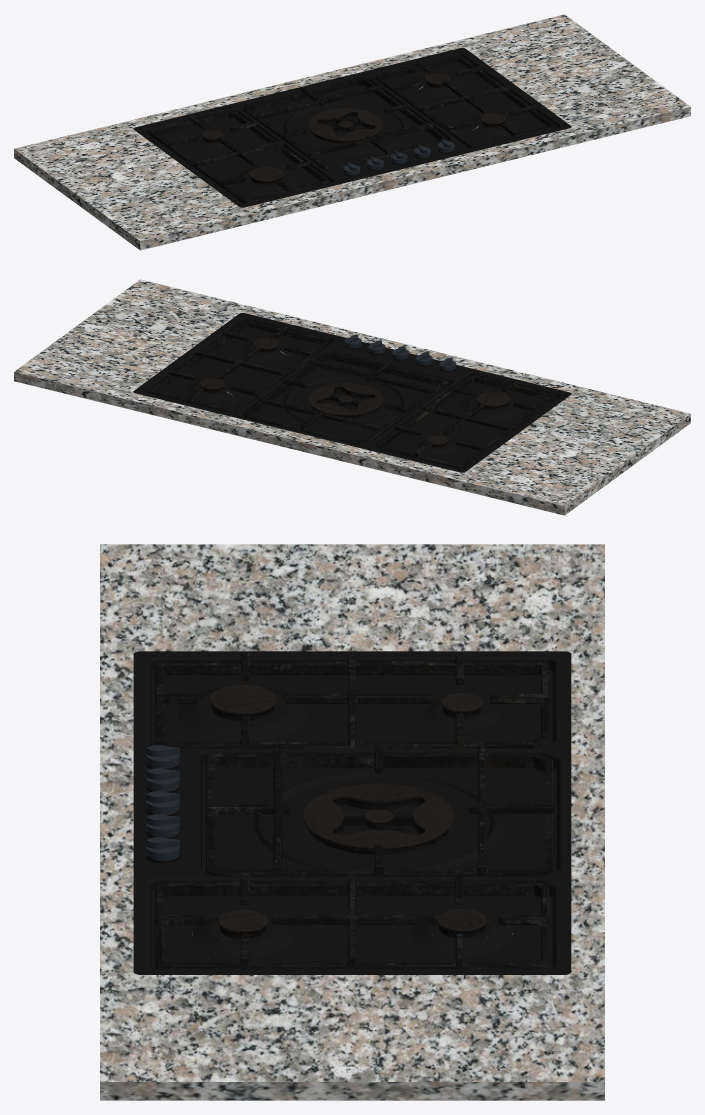
File: fuego1.glb
The picture shows the model from 3 angles, top to bottom: view 1: azimuth 30°, elevation 25°; view 2: azimuth 150°, elevation 25°; view 3: azimuth 270°, elevation 25°; orthographic projection. The views are drawn at different scales.
Visible parts, largest first — view 1: Object_4, Object_2, Object_3; view 2: Object_4, Object_2, Object_3; view 3: Object_4, Object_2, Object_3.
Part boxes in pixels (bbox=[...]): Object_4: bbox=[14, 14, 690, 250]; Object_2: bbox=[133, 48, 571, 207]; Object_3: bbox=[144, 53, 560, 202]; Object_4: bbox=[14, 279, 690, 515]; Object_2: bbox=[133, 313, 571, 472]; Object_3: bbox=[144, 317, 560, 467]; Object_4: bbox=[100, 544, 604, 1100]; Object_2: bbox=[133, 651, 571, 974]; Object_3: bbox=[147, 653, 561, 969].
Size of the model in its own units: 59.45 by 1.91 by 23.62.
2 materials, 2 textured.
